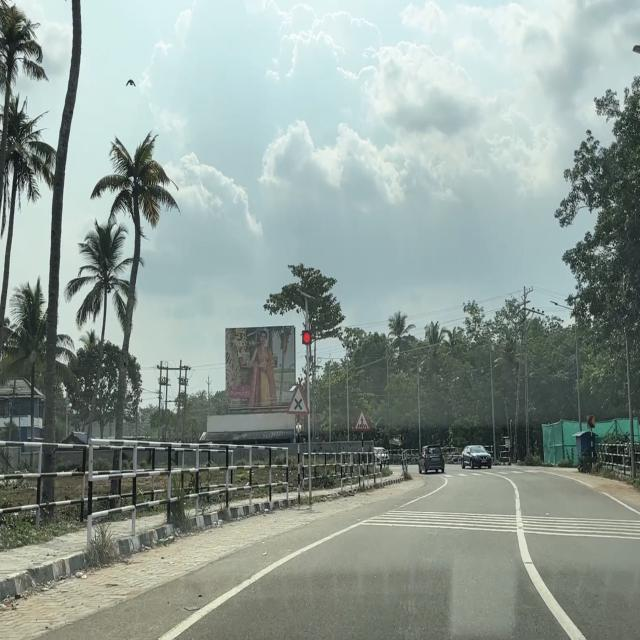CROSS_ROAD: (286, 382, 310, 414)
PEDESTRIAN_CROSSING: (353, 408, 371, 431)
TURN_LEFT: (586, 415, 596, 429), (399, 434, 404, 442)
